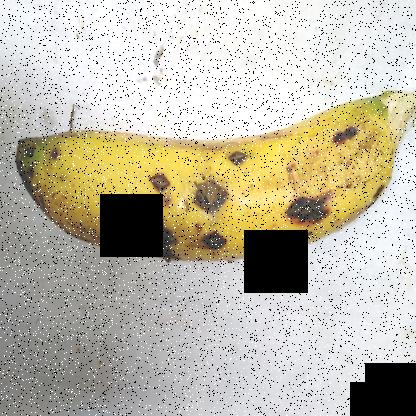rotten: (268, 178, 335, 258), (109, 210, 180, 274), (188, 154, 230, 220), (322, 108, 362, 160), (213, 119, 250, 172), (142, 154, 175, 206), (192, 223, 235, 262)
